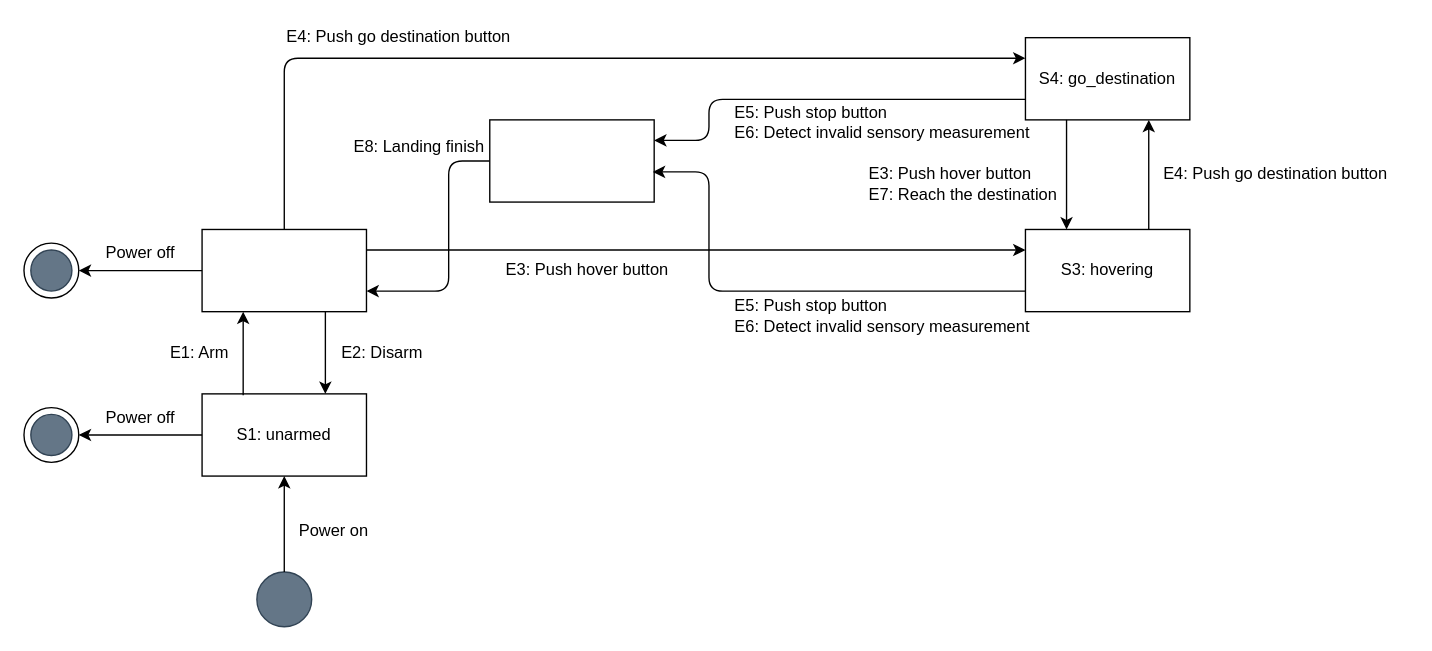
This 1432x651 diagram has some shape labels left out. The box of each missing label's shape, as (x1, y1, x2, y2) in pixels:
S2: armed: (201, 228, 366, 312)
S5: landing: (488, 119, 654, 202)
